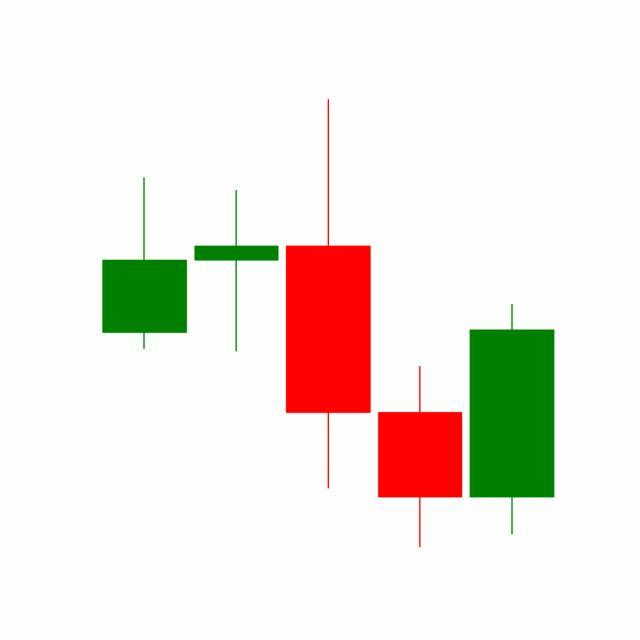Marubozu: (466, 302, 559, 538)
